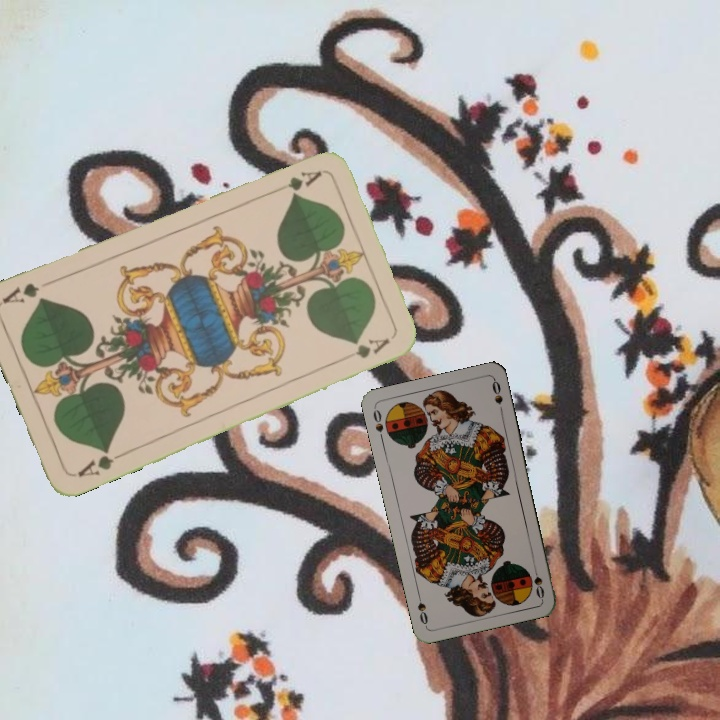GA: (73, 444, 128, 480), (268, 166, 325, 197)
SO: (529, 561, 547, 601), (369, 404, 386, 444)
